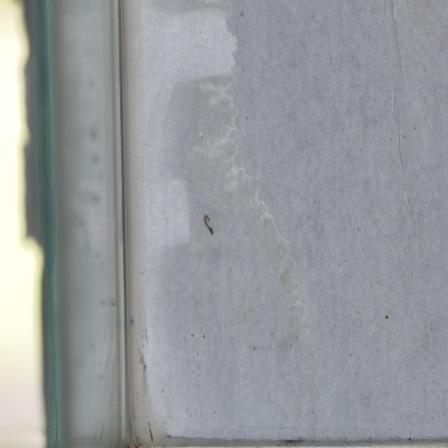Jentik-Nyamuk: (199, 210, 217, 238)
